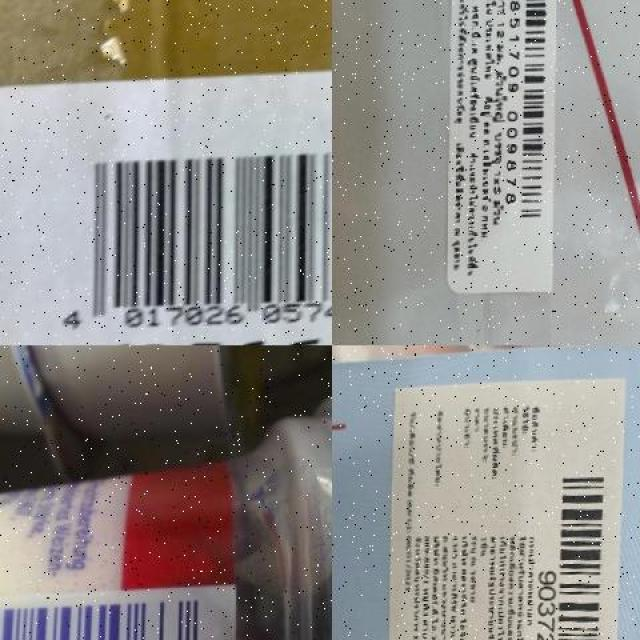Barcode: (32, 138, 332, 342), (529, 460, 615, 640), (0, 588, 235, 640), (503, 0, 549, 232)
